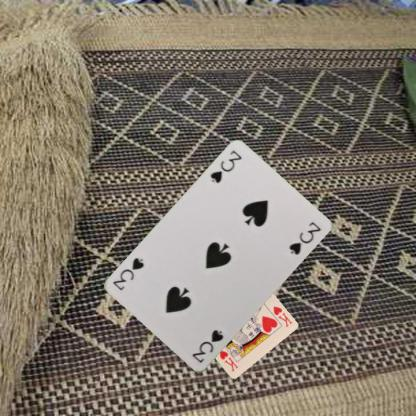3s: (208, 148, 244, 185), (190, 327, 224, 365)
Kh: (271, 303, 294, 329)
